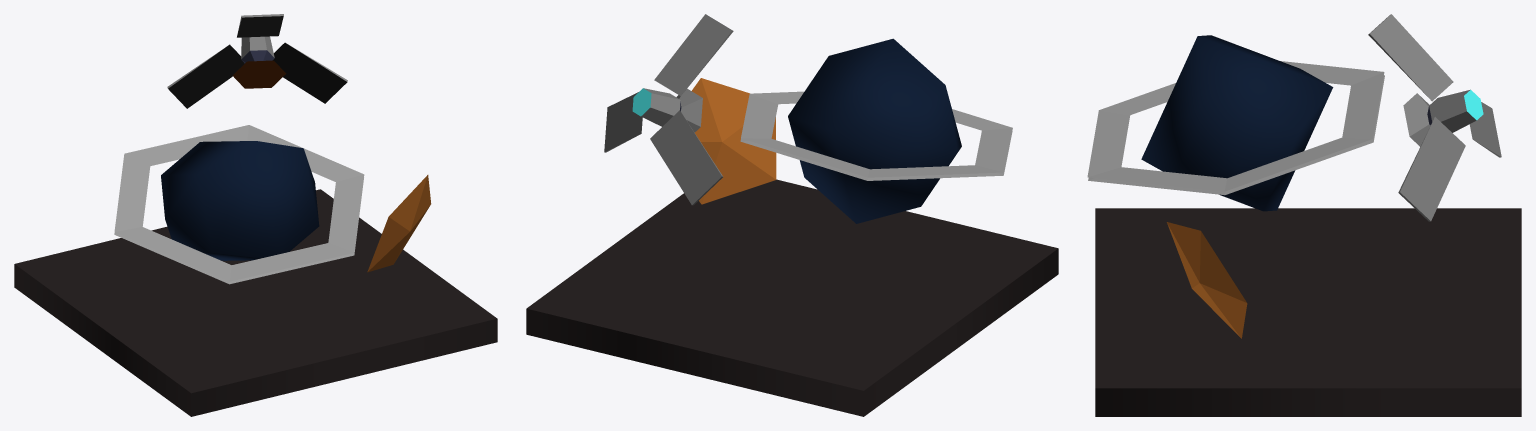
The model's file is W_O_Playground_SpaceSymbolic_002_L3.fbx.
3 views of the same model, side by side, from view 1: azimuth 30°, elevation 25°; view 2: azimuth 150°, elevation 25°; view 3: azimuth 270°, elevation 25° (orthographic). The views are drawn at different scales.
Visible parts, largest first — view 1: W_O_Playground_SpaceSymbolic_002_L3; view 2: W_O_Playground_SpaceSymbolic_002_L3; view 3: W_O_Playground_SpaceSymbolic_002_L3.
Part boxes in pixels (x1=…): W_O_Playground_SpaceSymbolic_002_L3: x1=14, y1=14, x2=497, y2=416; W_O_Playground_SpaceSymbolic_002_L3: x1=526, y1=14, x2=1058, y2=416; W_O_Playground_SpaceSymbolic_002_L3: x1=1087, y1=14, x2=1521, y2=416.
Size of the model in its own units: 2.09 by 1.68 by 2.04.
